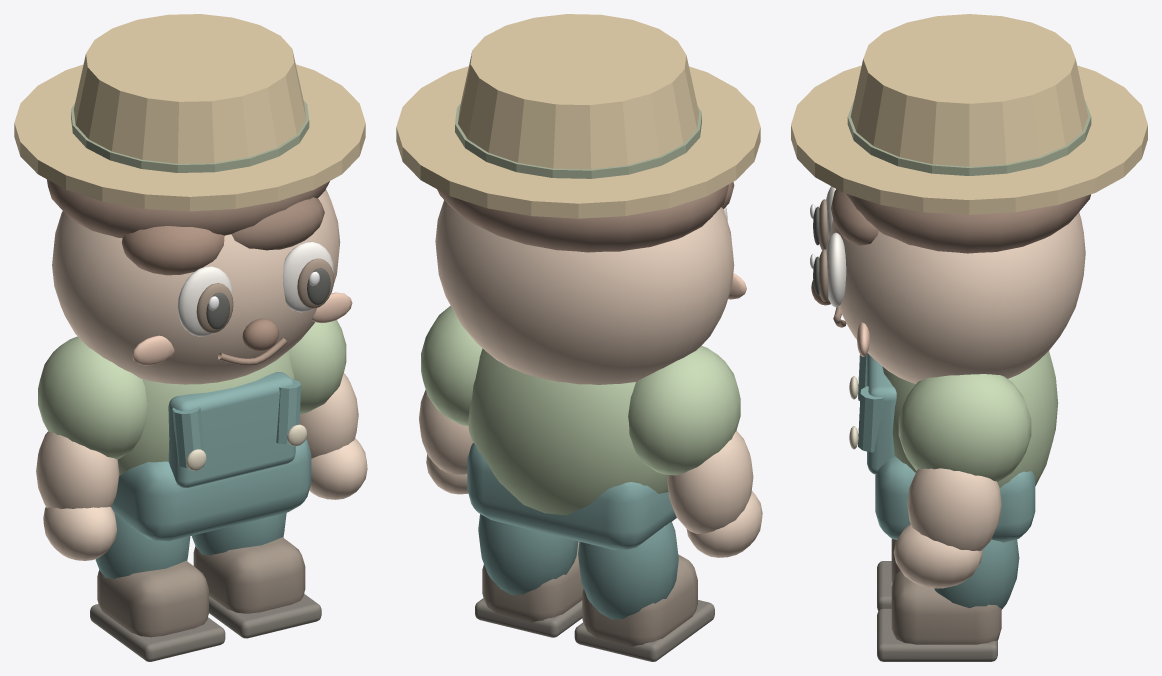
Rendered from gardener-v036.glb.
3 views of the same model, side by side, from view 1: azimuth 30°, elevation 25°; view 2: azimuth 150°, elevation 25°; view 3: azimuth 270°, elevation 25° (orthographic). The views are drawn at different scales.
Visible parts, largest first — view 1: Couronne du chapeau, Visage arrondi, Bord du chapeau, Salopette bassin, Manche Gauche, Bavette salopette, Botte Gauche, Botte Droite, Calotte cheveux, Bras Gauche, Frange gauche, Corps chemise (+22 smaller); view 2: Visage arrondi, Couronne du chapeau, Bord du chapeau, Corps chemise, Manche Gauche, Salopette bassin, Calotte cheveux, Jambe Gauche, Bras Gauche, Jambe Droite, Manche Droite, Botte Gauche (+7 smaller); view 3: Couronne du chapeau, Visage arrondi, Bord du chapeau, Manche Droite, Calotte cheveux, Bras Droite, Botte Droite, Salopette bassin, Corps chemise, Main Droite, Jambe Droite, Semelle Droite (+6 smaller).
Boxes of the visible parts, box(x1,y1,x2,y2) form: Couronne du chapeau: box(73, 14, 306, 163); Visage arrondi: box(52, 189, 340, 384); Bord du chapeau: box(14, 64, 365, 211); Salopette bassin: box(111, 439, 311, 541); Manche Gauche: box(38, 336, 147, 459); Bavette salopette: box(168, 372, 295, 487); Botte Gauche: box(97, 560, 208, 637); Botte Droite: box(193, 537, 305, 613); Calotte cheveux: box(47, 179, 329, 237); Bras Gauche: box(36, 431, 119, 508); Frange gauche: box(121, 226, 224, 275); Corps chemise: box(117, 351, 294, 475); Visage arrondi: box(435, 200, 734, 384); Couronne du chapeau: box(458, 14, 698, 169); Bord du chapeau: box(396, 66, 760, 218); Corps chemise: box(468, 348, 668, 515); Manche Gauche: box(628, 345, 740, 475); Salopette bassin: box(467, 443, 676, 549); Calotte cheveux: box(437, 184, 728, 252); Jambe Gauche: box(578, 521, 678, 619); Bras Gauche: box(667, 430, 753, 533); Jambe Droite: box(478, 514, 578, 595); Manche Droite: box(421, 306, 482, 425); Botte Gauche: box(582, 554, 697, 646); Couronne du chapeau: box(850, 14, 1088, 166); Visage arrondi: box(830, 212, 1085, 383); Bord du chapeau: box(791, 65, 1147, 214); Manche Droite: box(898, 374, 1031, 482); Calotte cheveux: box(846, 193, 1090, 253); Bras Droite: box(907, 468, 1001, 550); Botte Droite: box(891, 570, 1001, 644); Salopette bassin: box(875, 456, 1035, 542); Corps chemise: box(882, 351, 1058, 488); Main Droite: box(893, 524, 982, 588); Jambe Droite: box(934, 539, 1019, 609); Semelle Droite: box(877, 608, 997, 661).
Bounding box in the file's own units: 1.39 × 2.36 × 1.36.
